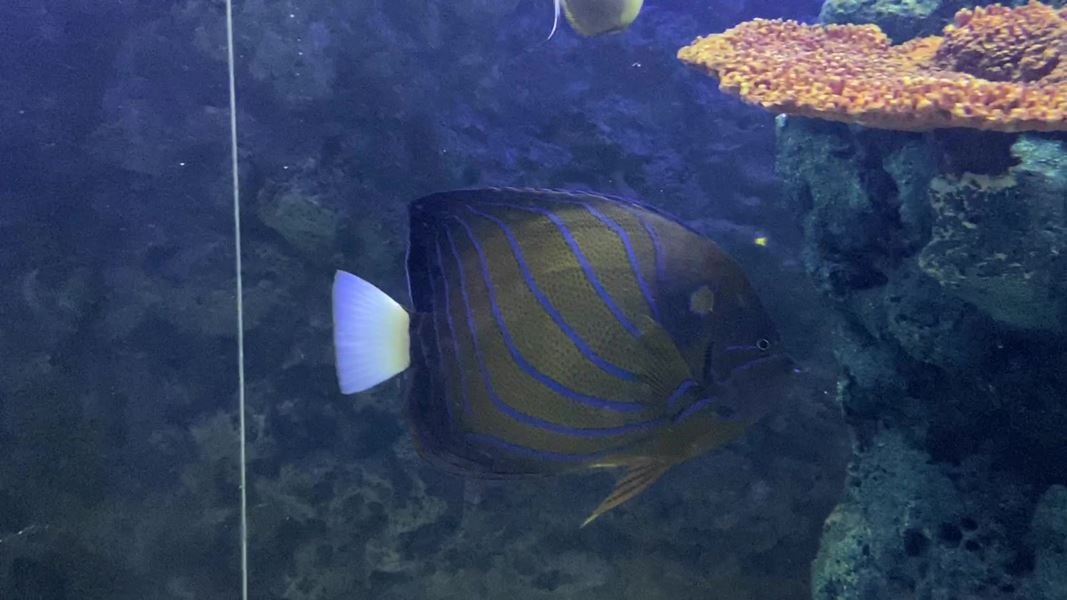Blue ring angelfish: (316, 171, 825, 538)
